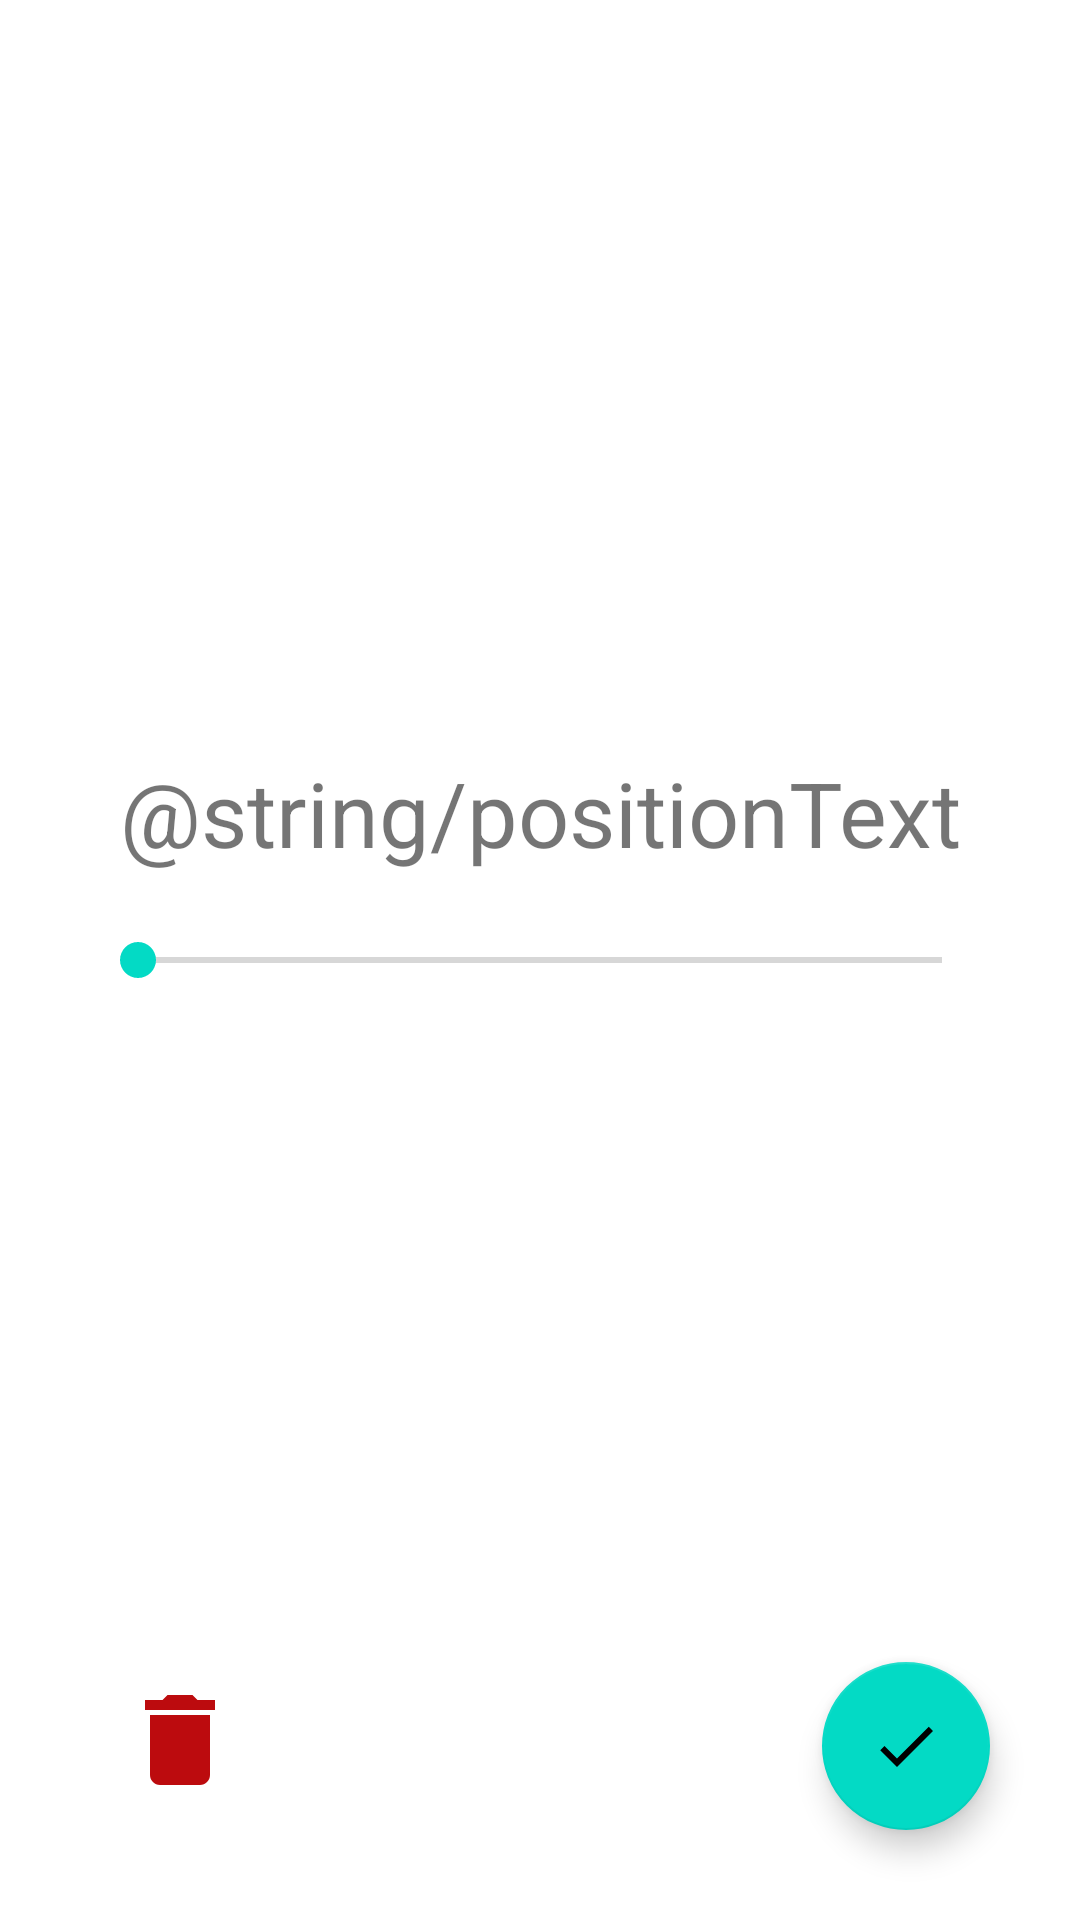

Icon bounding boxes for this 1080 × 1920 phone screenshot, format (x1,y1,x2,y2):
check: (822,1662,990,1830)
delete: (145,1695,215,1785)
